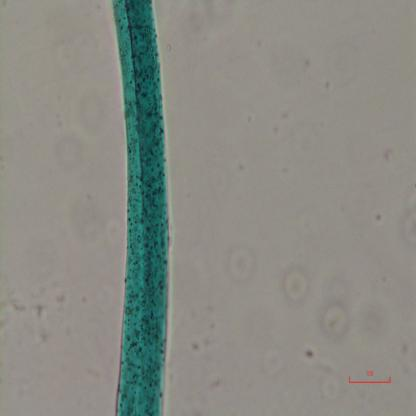Background material: (54, 86, 99, 171), (23, 281, 72, 338), (314, 294, 352, 342), (229, 238, 262, 280), (286, 125, 323, 153), (284, 267, 310, 306), (317, 356, 340, 396), (401, 188, 416, 248), (298, 210, 322, 238), (272, 104, 294, 127), (301, 342, 319, 362), (184, 338, 202, 356), (384, 144, 393, 160), (376, 209, 384, 226)
Microfibre: (111, 0, 171, 416)
